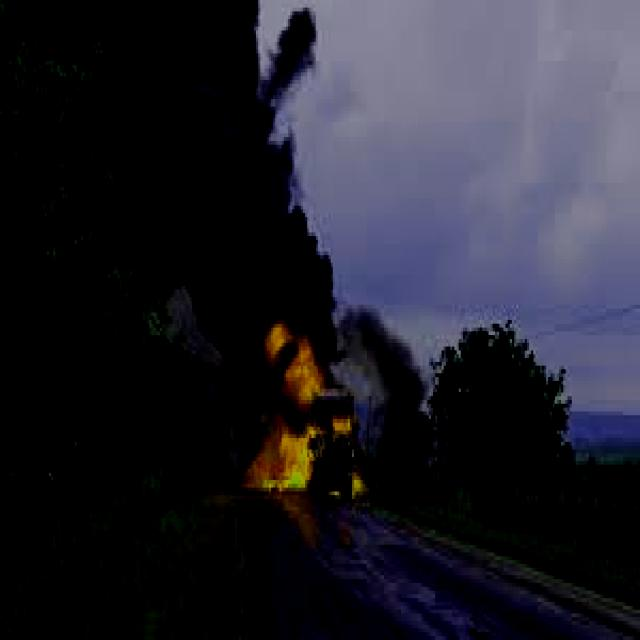fire: (226, 320, 376, 503)
